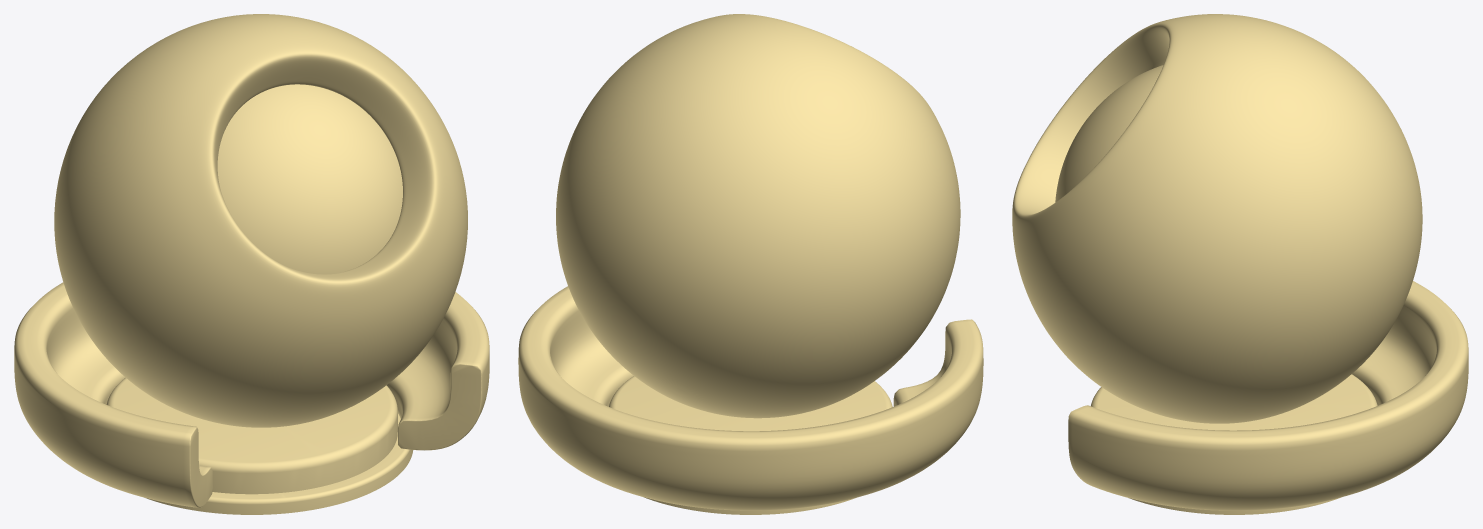
The model's file is gltf_pbr_gold.mtlx.glb.
3 views of the same model, side by side, from view 1: azimuth 30°, elevation 25°; view 2: azimuth 150°, elevation 25°; view 3: azimuth 270°, elevation 25° (orthographic). The views are drawn at different scales.
Parts seen in each view (by area): view 1: Preview_Mesh, Calibration_Mesh; view 2: Preview_Mesh, Calibration_Mesh; view 3: Preview_Mesh, Calibration_Mesh.
Boxes of the visible parts, box(x1,y1,x2,y2) form: Preview_Mesh: box(14, 14, 489, 507); Calibration_Mesh: box(106, 84, 413, 514); Preview_Mesh: box(518, 14, 983, 510); Calibration_Mesh: box(609, 376, 892, 514); Preview_Mesh: box(1012, 14, 1468, 510); Calibration_Mesh: box(1055, 65, 1377, 514).
Size of the model in its own units: 2.14 by 2.09 by 2.08.
